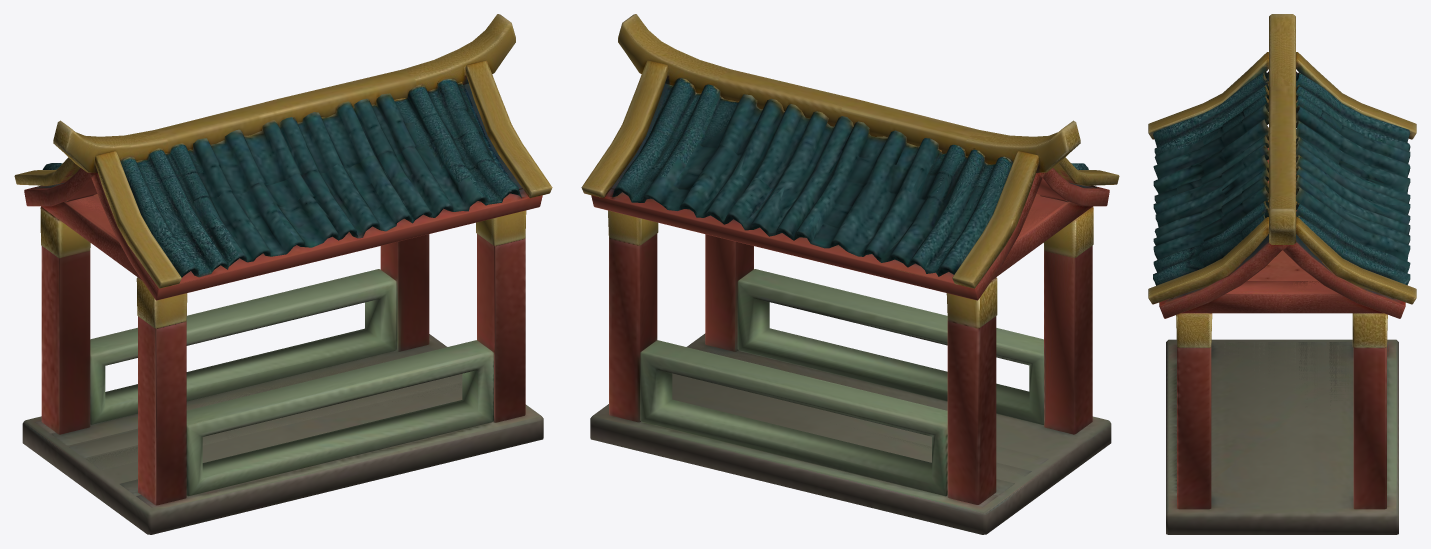
Rendered from tripo_convert_ec34bc24-d4b2-495d-87e2-19399df14eac.fbx.
3 renders of one model, left to right at view 1: azimuth 30°, elevation 25°; view 2: azimuth 150°, elevation 25°; view 3: azimuth 270°, elevation 25°, orthographic. The views are drawn at different scales.
Parts seen in each view (by area): view 1: tripo_node_ec34bc24; view 2: tripo_node_ec34bc24; view 3: tripo_node_ec34bc24.
Part boxes in pixels (x1=…): tripo_node_ec34bc24: x1=14, y1=14, x2=552, y2=534; tripo_node_ec34bc24: x1=581, y1=14, x2=1119, y2=534; tripo_node_ec34bc24: x1=1148, y1=14, x2=1416, y2=534.
Size of the model in its own units: 0.998 by 0.7793 by 0.5645.
1 material, 1 textured.
